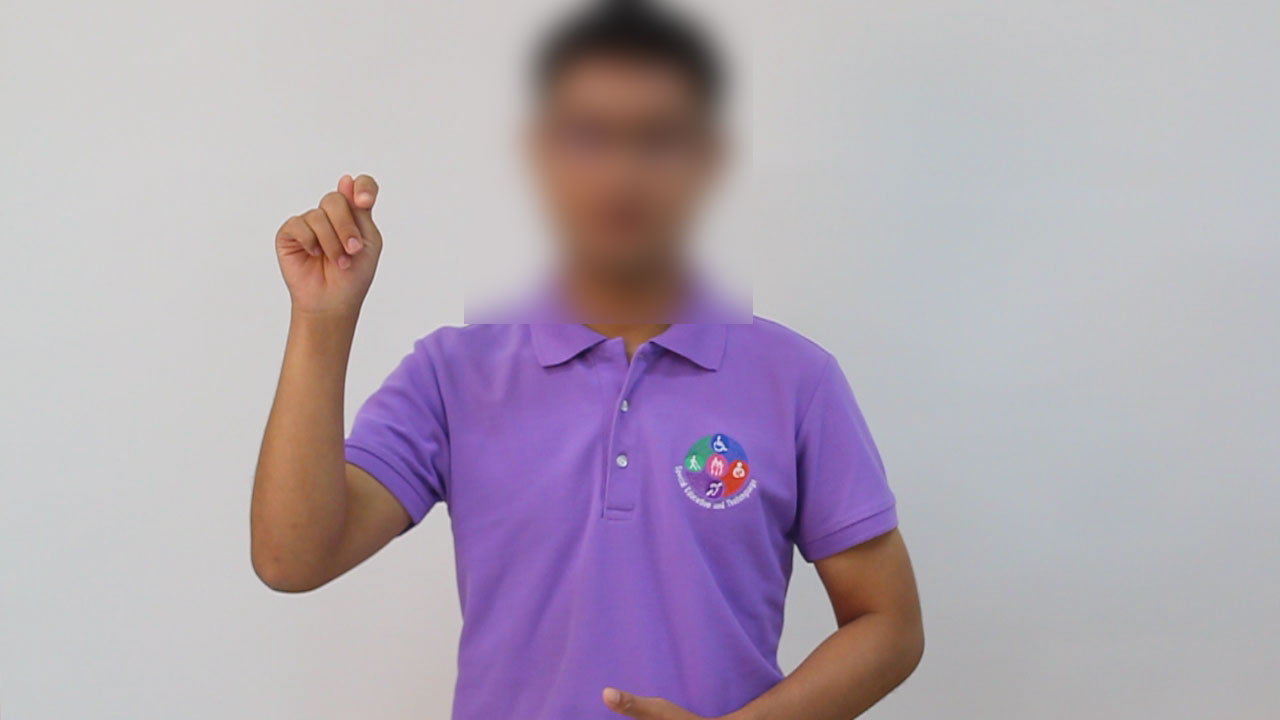tor: (256, 169, 402, 327)
